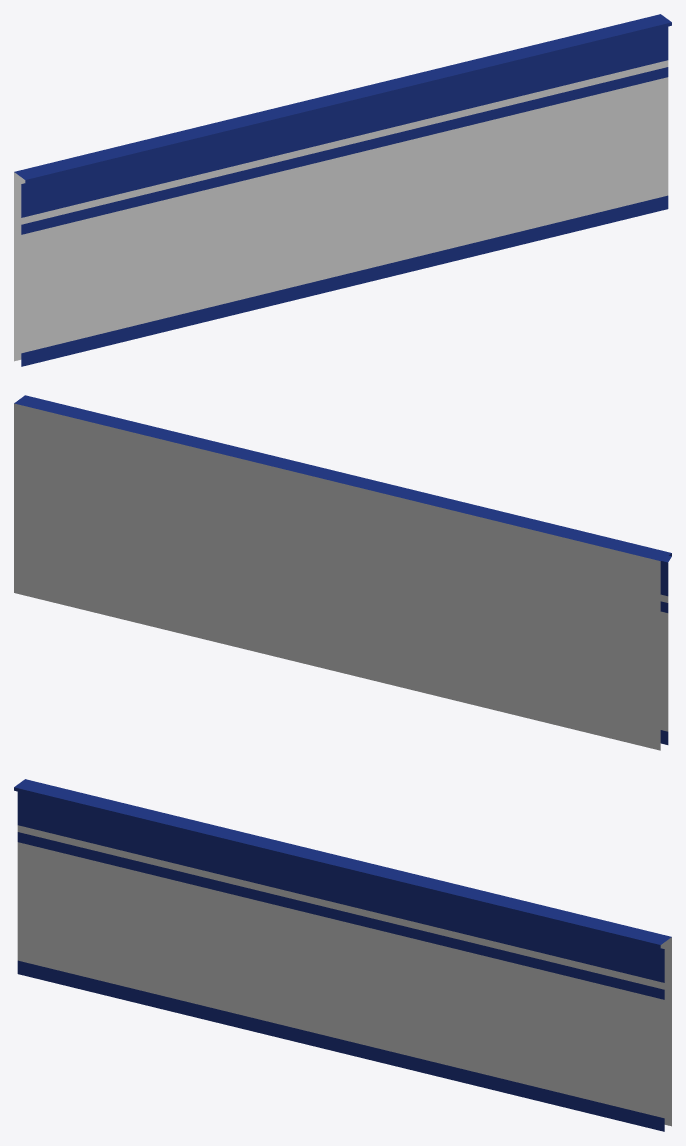
The model's file is wall_1_10x2_8.glb.
The picture shows the model from 3 angles, top to bottom: view 1: azimuth 30°, elevation 25°; view 2: azimuth 150°, elevation 25°; view 3: azimuth 330°, elevation 25°; orthographic projection.
Parts seen in each view (by area): view 1: Cube; view 2: Cube; view 3: Cube.
Part boxes in pixels (<box>): Cube: <box>14,14,671,366</box>; Cube: <box>14,395,671,750</box>; Cube: <box>14,779,671,1131</box>.
Bounding box in the file's own units: 10 × 2.8 × 0.3.
